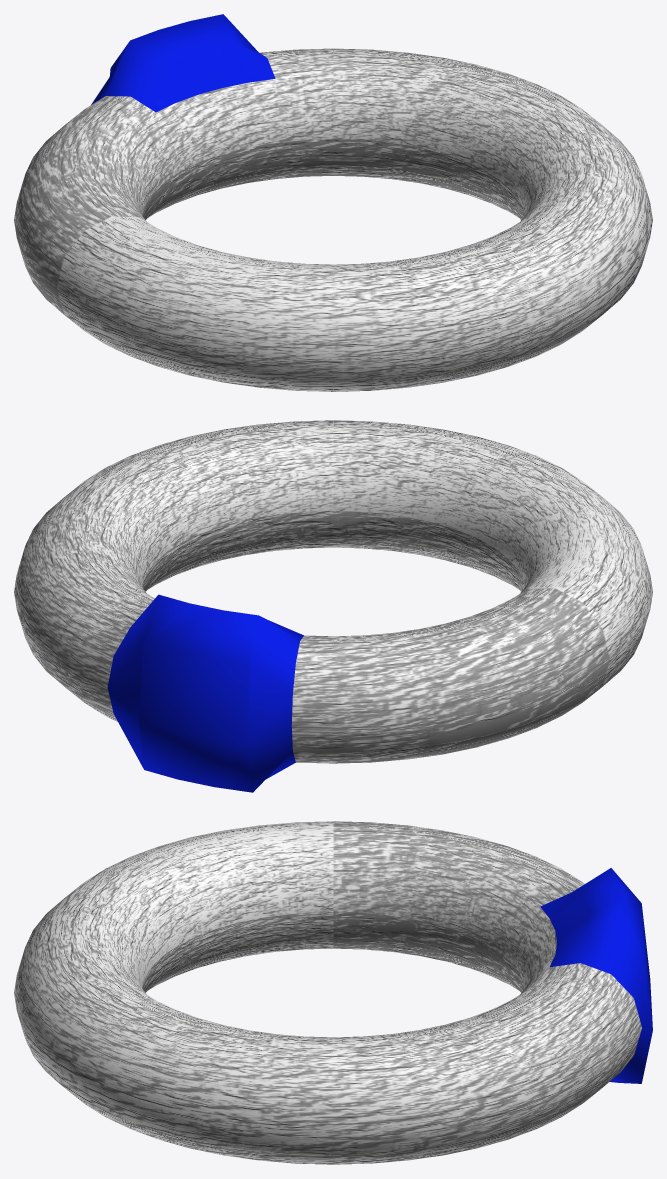
The model's file is anilloplata2.glb.
The picture shows the model from 3 angles, top to bottom: view 1: azimuth 30°, elevation 25°; view 2: azimuth 150°, elevation 25°; view 3: azimuth 270°, elevation 25°; orthographic projection.
Visible parts, largest first — view 1: Toroide; view 2: Toroide; view 3: Toroide.
Boxes of the visible parts, box(x1,y1,x2,y2) form: Toroide: box(14, 14, 652, 391); Toroide: box(14, 420, 652, 792); Toroide: box(14, 821, 652, 1164).
Bounding box in the file's own units: 2.5 × 0.7249 × 2.5.
2 materials, 1 textured.
